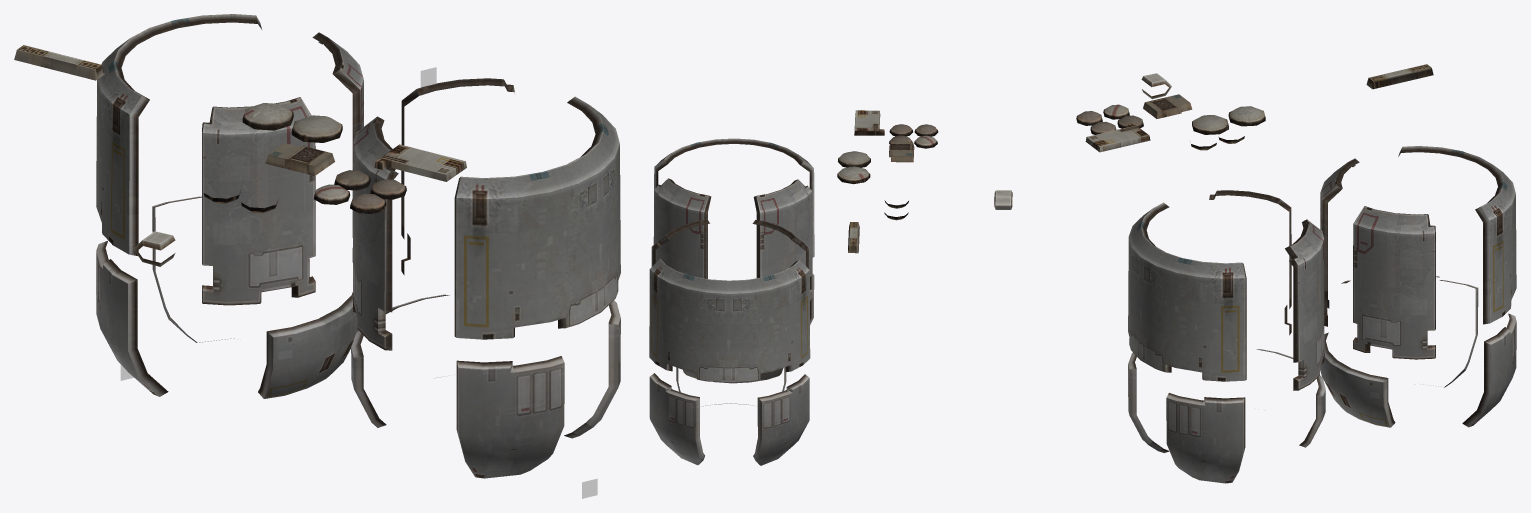
File: prop_static_tr1_container_01_01.glb
3 views of the same model, side by side, from view 1: azimuth 30°, elevation 25°; view 2: azimuth 150°, elevation 25°; view 3: azimuth 270°, elevation 25° (orthographic). The views are drawn at different scales.
Visible parts, largest first — view 1: tr1_container_01_01_LOD0; view 2: tr1_container_01_01_LOD0; view 3: tr1_container_01_01_LOD0.
Part boxes in pixels (x1=…): tr1_container_01_01_LOD0: x1=14, y1=14, x2=620, y2=478; tr1_container_01_01_LOD0: x1=649, y1=110, x2=1012, y2=465; tr1_container_01_01_LOD0: x1=1076, y1=64, x2=1516, y2=483.
Size of what is drawn, in the model's own units: 6.06 by 6.1 by 6.64.
Materials: 3 (1 with a texture image).
